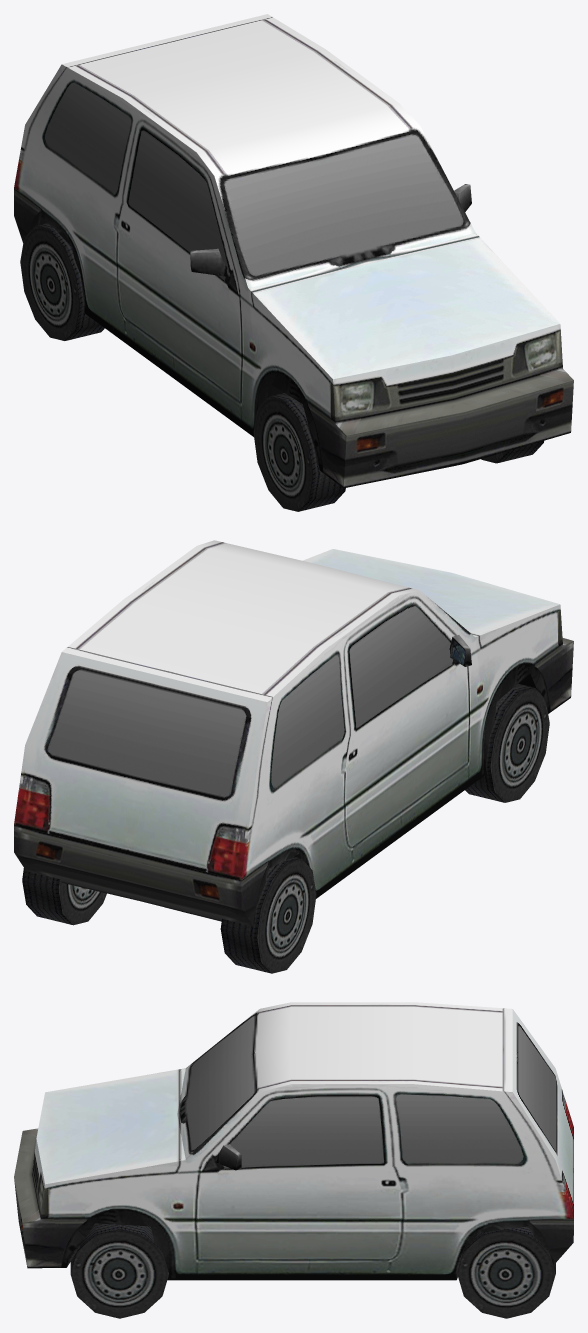
File: 15_vaz_1111_oka.glb
The picture shows the model from 3 angles, top to bottom: view 1: azimuth 30°, elevation 25°; view 2: azimuth 150°, elevation 25°; view 3: azimuth 270°, elevation 25°; orthographic projection. The views are drawn at different scales.
Visible parts, largest first — view 1: oka_wheel_holes_101, oka_wheel.001_98, oka_wheel.003_100; view 2: oka_wheel_holes_101, oka_wheel.003_100, oka_wheel.001_98, oka_wheel.002_99; view 3: oka_wheel_holes_101, oka_wheel_97, oka_wheel.002_99.
Boxes of the visible parts, <box> form: oka_wheel_holes_101: <box>14,14,573,488</box>; oka_wheel.001_98: <box>253,393,345,511</box>; oka_wheel.003_100: <box>20,223,104,340</box>; oka_wheel_holes_101: <box>14,540,573,926</box>; oka_wheel.003_100: <box>220,856,316,973</box>; oka_wheel.001_98: <box>465,683,549,802</box>; oka_wheel.002_99: <box>22,868,106,925</box>; oka_wheel_holes_101: <box>14,1002,573,1280</box>; oka_wheel_97: <box>70,1223,168,1318</box>; oka_wheel.002_99: <box>457,1226,555,1318</box>.
Size of the model in its own units: 1.85 by 1.74 by 3.86.
1 material, 1 textured.
